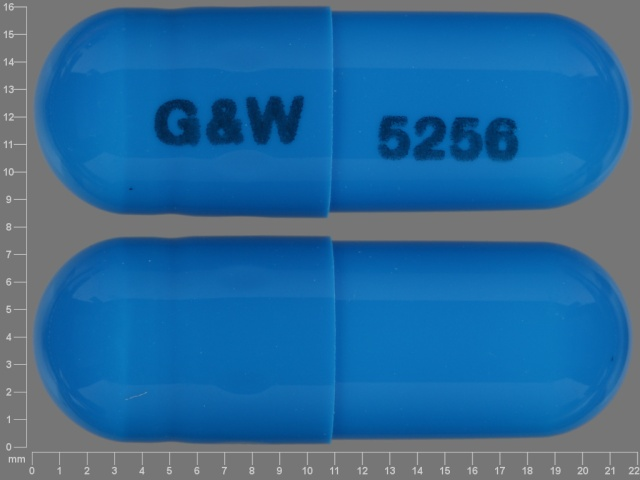capsule: (34, 235, 629, 445), (43, 13, 627, 217)
